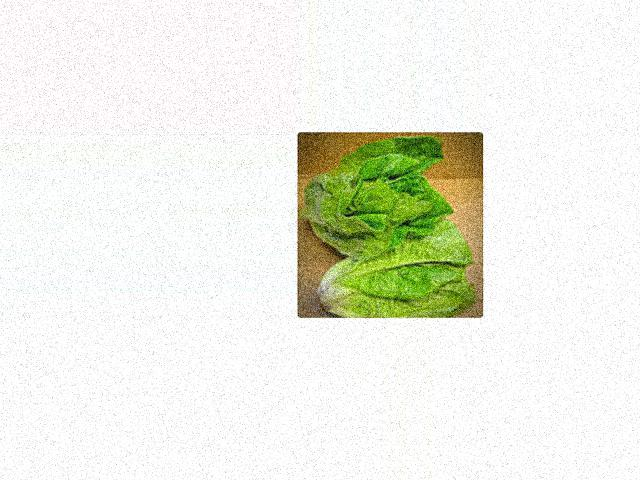lettuce: (320, 159, 463, 312)
